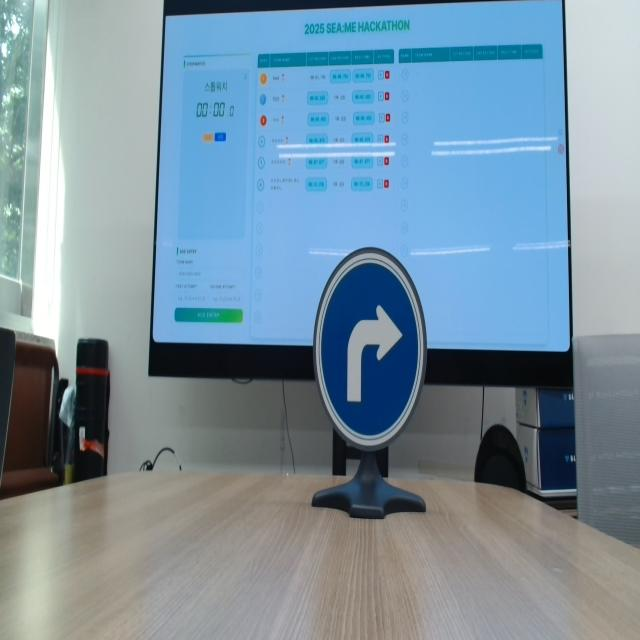right_dierection: (308, 242, 432, 453)
